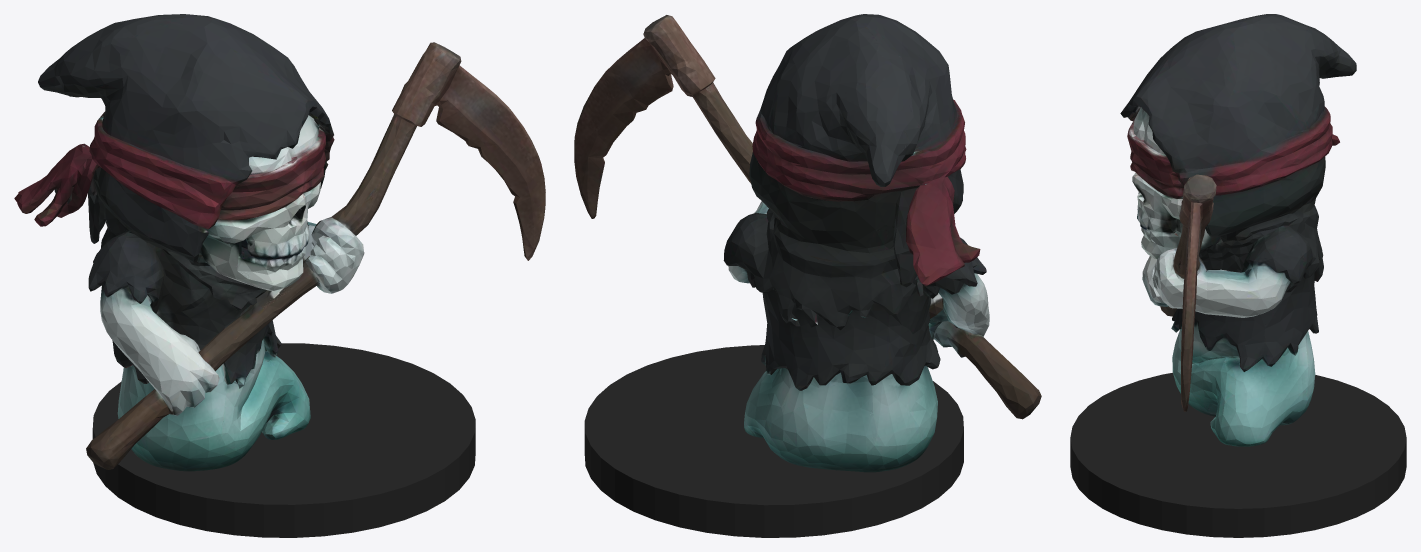
The model's file is nh-grimghast-reaper.glb.
3 renders of one model, left to right at view 1: azimuth 30°, elevation 25°; view 2: azimuth 150°, elevation 25°; view 3: azimuth 270°, elevation 25°, orthographic. The views are drawn at different scales.
Visible parts, largest first — view 1: figure, base; view 2: figure, base; view 3: figure, base.
Boxes of the visible parts, x1,y1,x2,y2 form: figure: (14, 14, 545, 471); base: (92, 343, 475, 537); figure: (574, 14, 1041, 472); base: (584, 345, 963, 537); figure: (1120, 14, 1356, 446); base: (1070, 372, 1406, 537).
Size of the model in its own units: 1.75 by 1.67 by 1.26.
Materials: 2 (1 with a texture image).
